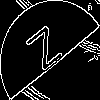Z: (25, 24, 70, 80)
